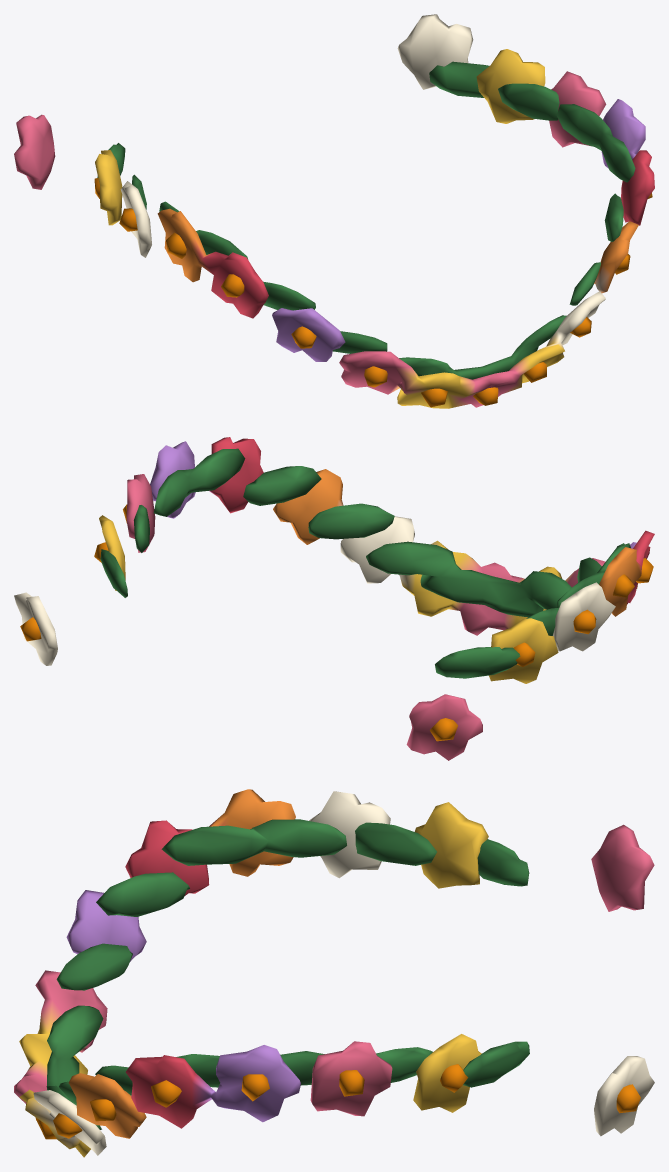
The model's file is vonghoa.glb.
The picture shows the model from 3 angles, top to bottom: view 1: azimuth 30°, elevation 25°; view 2: azimuth 150°, elevation 25°; view 3: azimuth 270°, elevation 25°; orthographic projection. The views are drawn at different scales.
Parts seen in each view (by area): view 1: Hoa, La, Nhuy; view 2: Hoa, La, Nhuy; view 3: Hoa, La, Nhuy.
Part boxes in pixels (x1,y1,x2,y2): Hoa: (14, 14, 654, 408); La: (97, 61, 635, 379); Nhuy: (94, 178, 652, 407); Hoa: (14, 437, 654, 760); La: (100, 448, 630, 678); Nhuy: (20, 504, 653, 741); Hoa: (14, 789, 654, 1157); La: (46, 819, 529, 1129); Nhuy: (35, 1064, 640, 1139).
Size of the model in its own units: 0.232 by 0.0916 by 0.2359.
